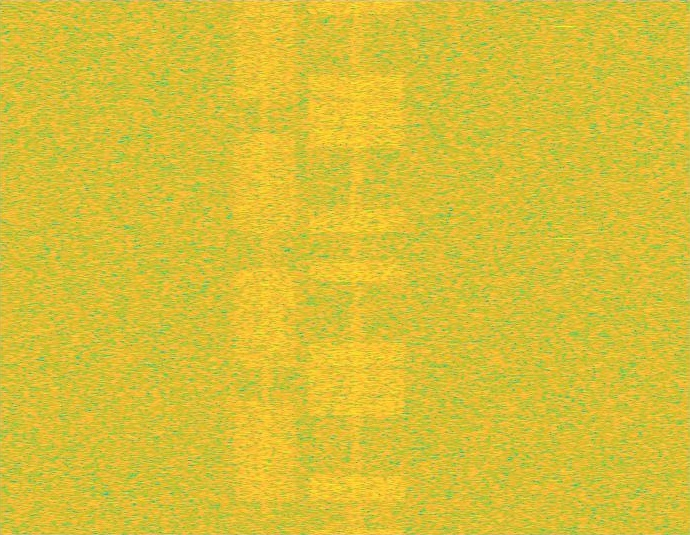5G: (231, 0, 300, 534)
DSSS: (350, 0, 364, 534), (261, 0, 270, 534)
LTE: (305, 0, 409, 534)
Radar: (557, 0, 571, 534)
